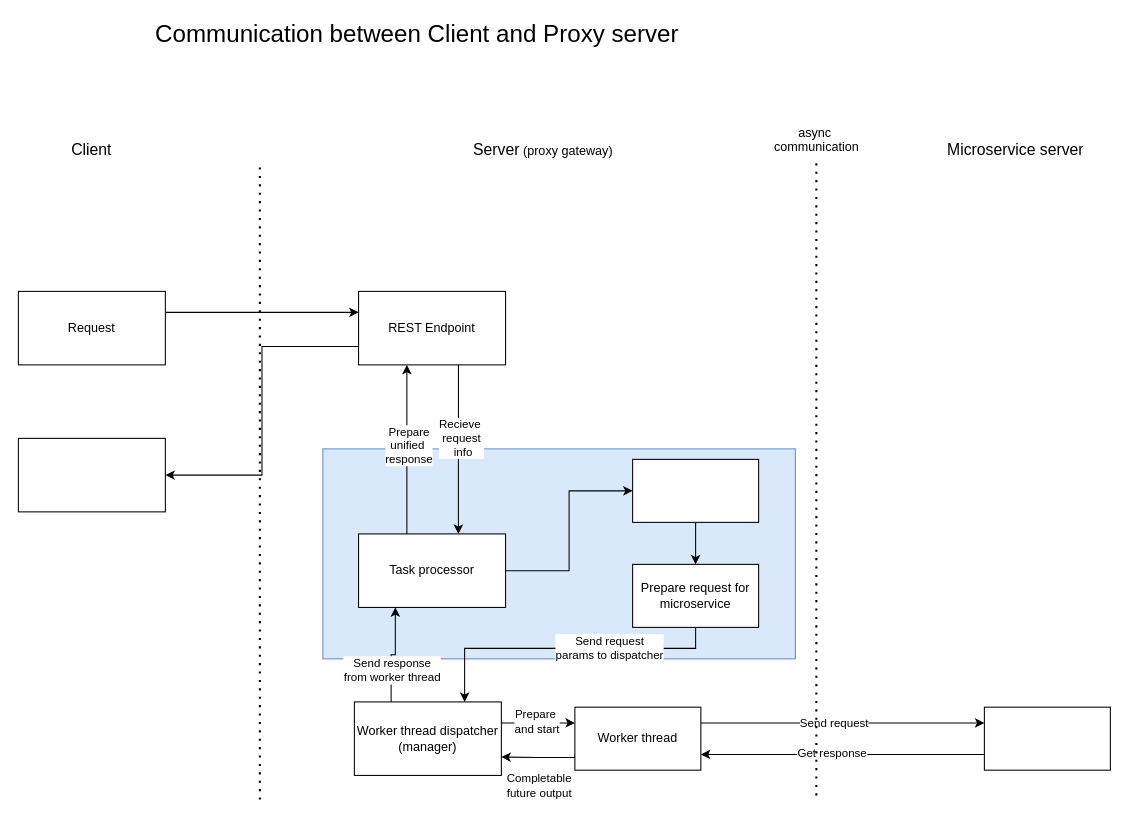
The diagram is 1129 pixels wide and 819 high, and some of its shapes have lost their labels. The shapes that lost their labels are listed below. From the top down, each one's centre as x and y in pixels, then its label:
point 91,474: Response
point 695,490: Process request structure
point 1046,738: Microservice worker
